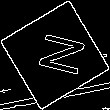N_W: (25, 29, 85, 81)
